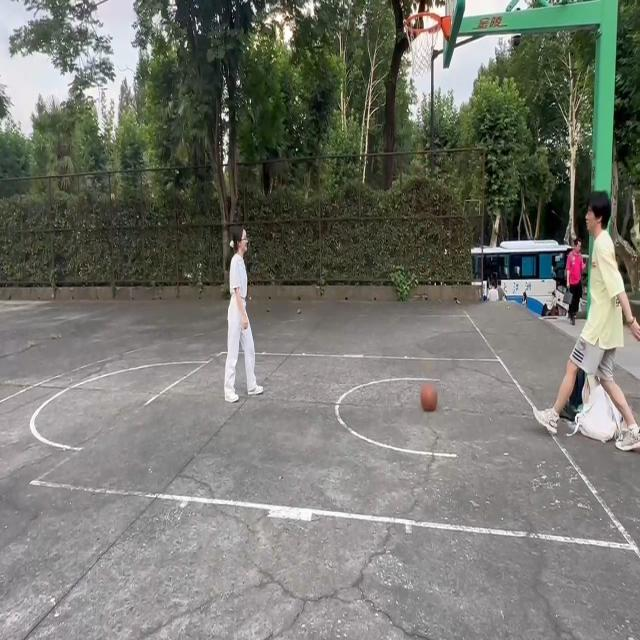basketball: (402, 13, 454, 80)
rim: (421, 382, 438, 412)
